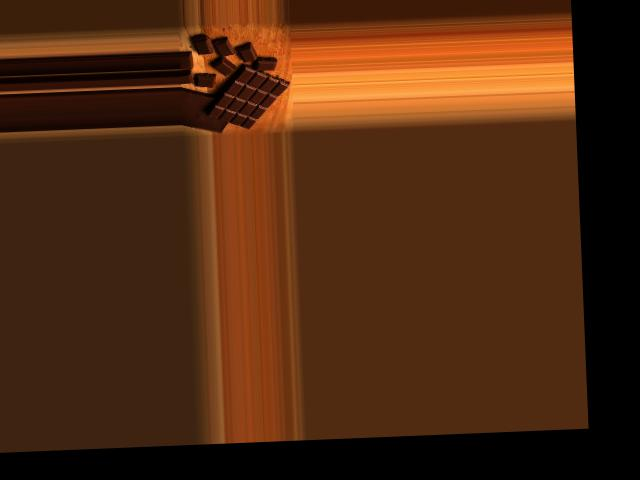chocolate: (204, 59, 288, 130)
